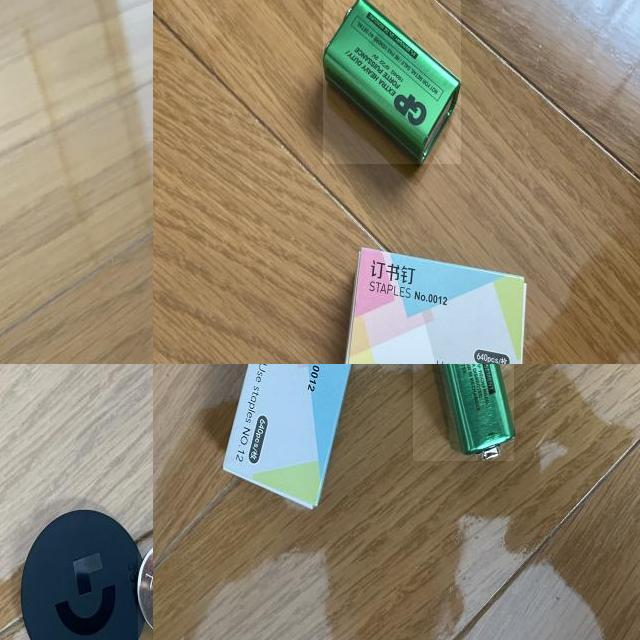9V: (322, 0, 461, 164), (413, 364, 514, 461)
